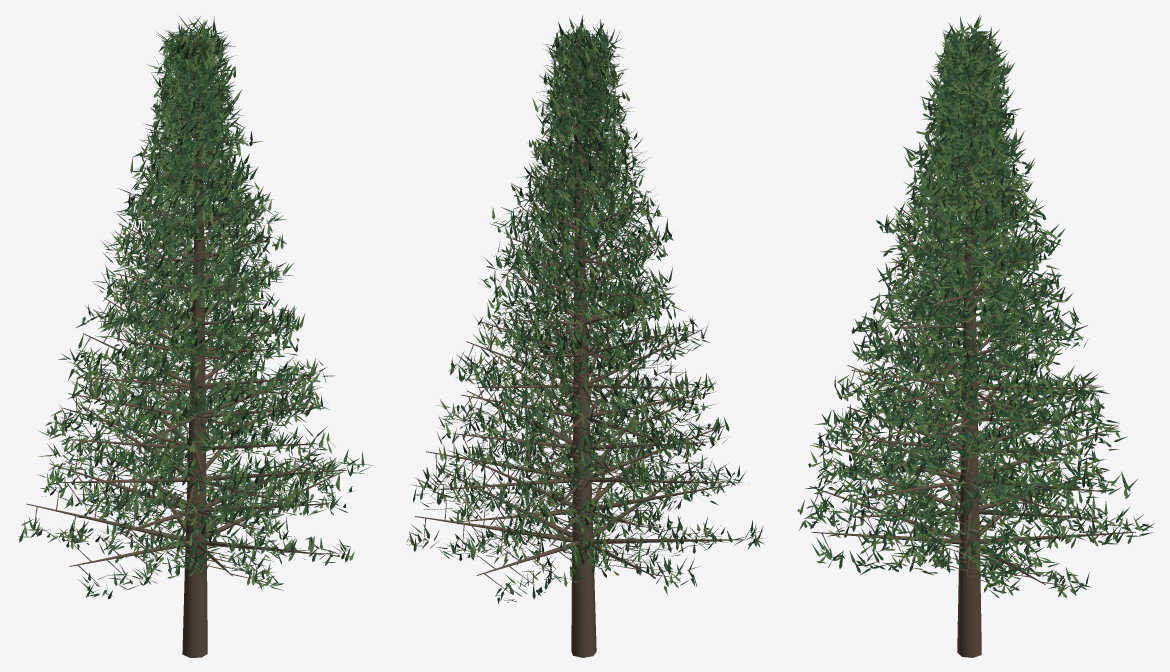
Rendered from forest-pine.glb.
The picture shows the model from 3 angles, left to right: view 1: azimuth 30°, elevation 25°; view 2: azimuth 150°, elevation 25°; view 3: azimuth 270°, elevation 25°; orthographic projection.
Visible parts, largest first — view 1: Foliage • sun, Foliage • shade, Foliage • mid, Bark • pine; view 2: Foliage • sun, Foliage • mid, Foliage • shade, Bark • pine; view 3: Foliage • sun, Foliage • shade, Foliage • mid, Bark • pine.
Part boxes in pixels (left/top/right/bottom): Foliage • sun: left=21, top=15, right=359, bottom=599; Foliage • shade: left=18, top=16, right=359, bottom=596; Foliage • mid: left=19, top=16, right=372, bottom=597; Bark • pine: left=26, top=32, right=346, bottom=657; Foliage • sun: left=409, top=19, right=756, bottom=594; Foliage • mid: left=406, top=18, right=766, bottom=602; Foliage • shade: left=407, top=15, right=764, bottom=603; Bark • pine: left=415, top=33, right=744, bottom=657; Foliage • sun: left=797, top=16, right=1140, bottom=598; Foliage • shade: left=805, top=14, right=1153, bottom=593; Foliage • mid: left=799, top=16, right=1154, bottom=597; Bark • pine: left=809, top=37, right=1135, bottom=657.
Bounding box in the file's own units: 6.85 × 13.34 × 6.93.
